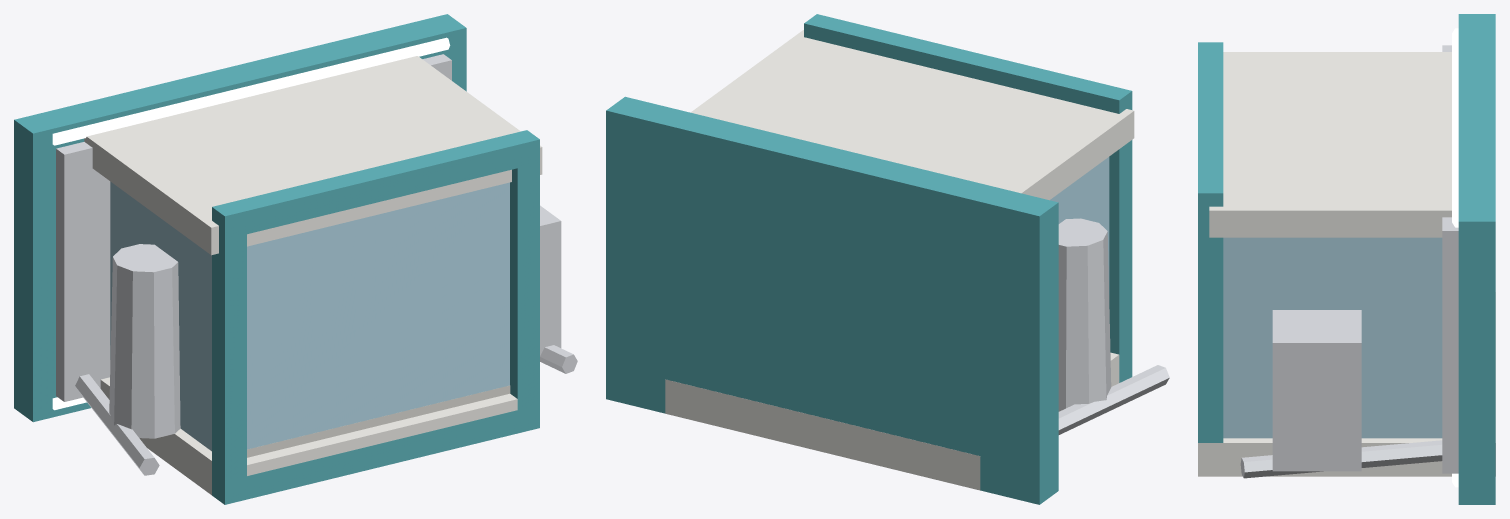
The model's file is arcology-towers-and-skyways-bridge-to-tower-coupling-058d71e7__23252.glb.
The picture shows the model from 3 angles, left to right: view 1: azimuth 30°, elevation 25°; view 2: azimuth 150°, elevation 25°; view 3: azimuth 270°, elevation 25°; orthographic projection.
Visible parts, largest first — view 1: bridge-to-tower-coupling; view 2: bridge-to-tower-coupling; view 3: bridge-to-tower-coupling.
Part boxes in pixels (x1,y1,x2,y2): bridge-to-tower-coupling: (14, 14, 577, 504); bridge-to-tower-coupling: (606, 14, 1169, 504); bridge-to-tower-coupling: (1198, 14, 1495, 504).
Bounding box in the file's own units: 6.67 × 4.2 × 4.
